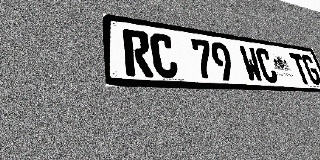7: (189, 38, 218, 80)
9: (209, 41, 237, 81)
C: (149, 32, 179, 79), (254, 48, 279, 83)
G: (300, 54, 320, 85)
R: (122, 29, 154, 77)
T: (289, 53, 312, 85)
W: (238, 45, 265, 82)
